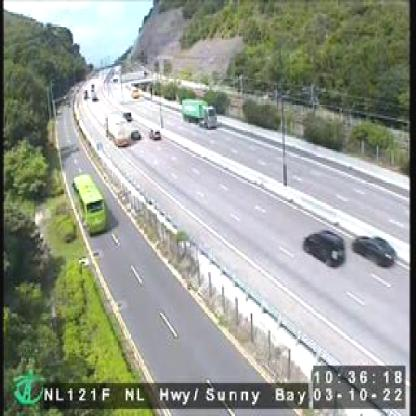Bus: (70, 174, 106, 230)
Car: (303, 229, 348, 265), (351, 234, 397, 269), (147, 128, 161, 139), (121, 109, 131, 120), (130, 127, 140, 135)
Truck: (182, 99, 218, 126), (102, 113, 128, 147)
